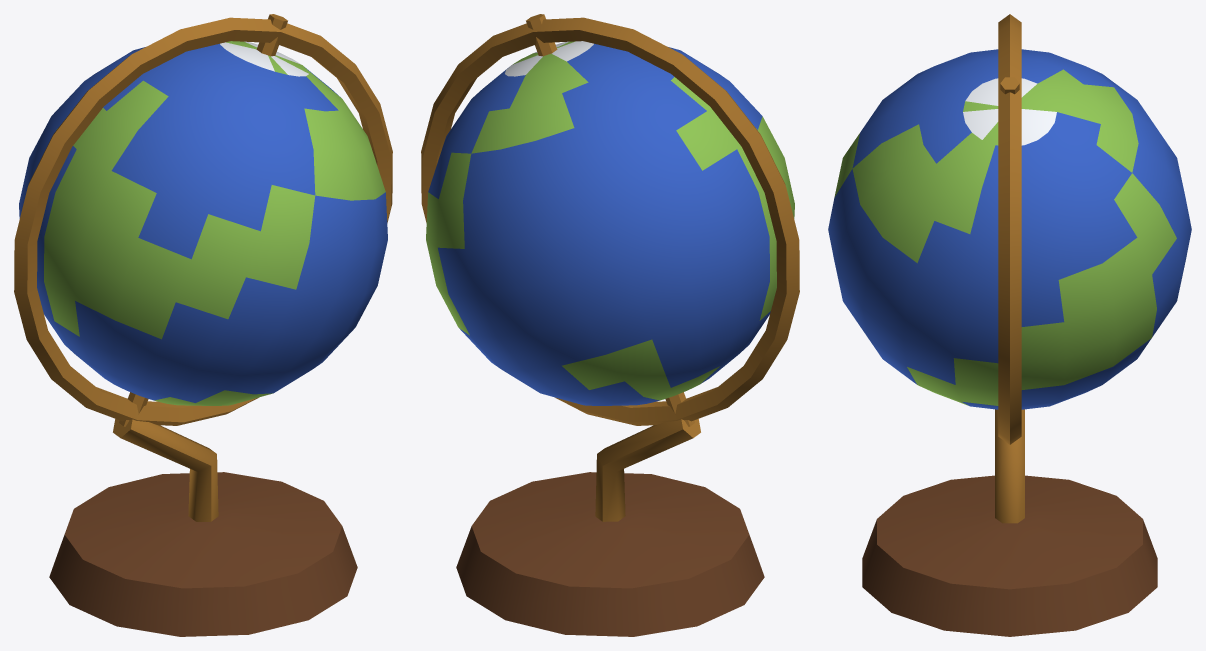
The model's file is globe-desk.glb.
3 views of the same model, side by side, from view 1: azimuth 30°, elevation 25°; view 2: azimuth 150°, elevation 25°; view 3: azimuth 270°, elevation 25° (orthographic). The views are drawn at different scales.
Parts seen in each view (by area): view 1: Desk globe, Globe base, Desk globe meridian, Globe stem; view 2: Desk globe, Globe base, Desk globe meridian, Globe stem; view 3: Desk globe, Globe base, Desk globe meridian, Globe stem.
Part boxes in pixels (x1,y1,x2,y2): Desk globe: [19, 41, 387, 405]; Globe base: [49, 472, 357, 636]; Desk globe meridian: [14, 14, 392, 426]; Globe stem: [113, 419, 218, 521]; Desk globe: [426, 41, 794, 405]; Globe base: [456, 472, 764, 636]; Desk globe meridian: [421, 14, 799, 426]; Globe stem: [595, 419, 700, 521]; Desk globe: [828, 49, 1191, 409]; Globe base: [862, 475, 1157, 636]; Desk globe meridian: [998, 14, 1021, 444]; Globe stem: [995, 409, 1024, 523].
Size of the model in its own units: 0.2827 by 0.3913 by 0.24.
